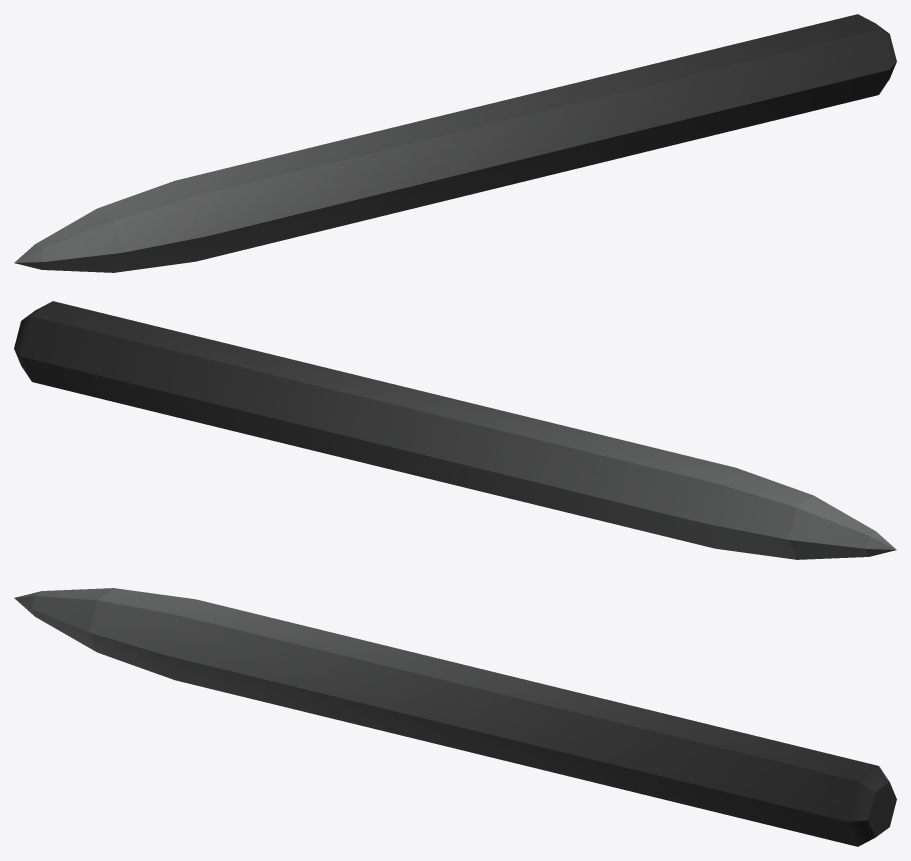
The model's file is Pen.fbx.
3 renders of one model, top to bottom at view 1: azimuth 30°, elevation 25°; view 2: azimuth 150°, elevation 25°; view 3: azimuth 330°, elevation 25°, orthographic.
Parts seen in each view (by area): view 1: Pen; view 2: Pen; view 3: Pen.
Boxes of the visible parts, x1,y1,x2,y2 form: Pen: (14, 14, 896, 272); Pen: (14, 301, 896, 559); Pen: (14, 588, 896, 846).
Bounding box in the file's own units: 12.14 × 0.8765 × 1.01.
